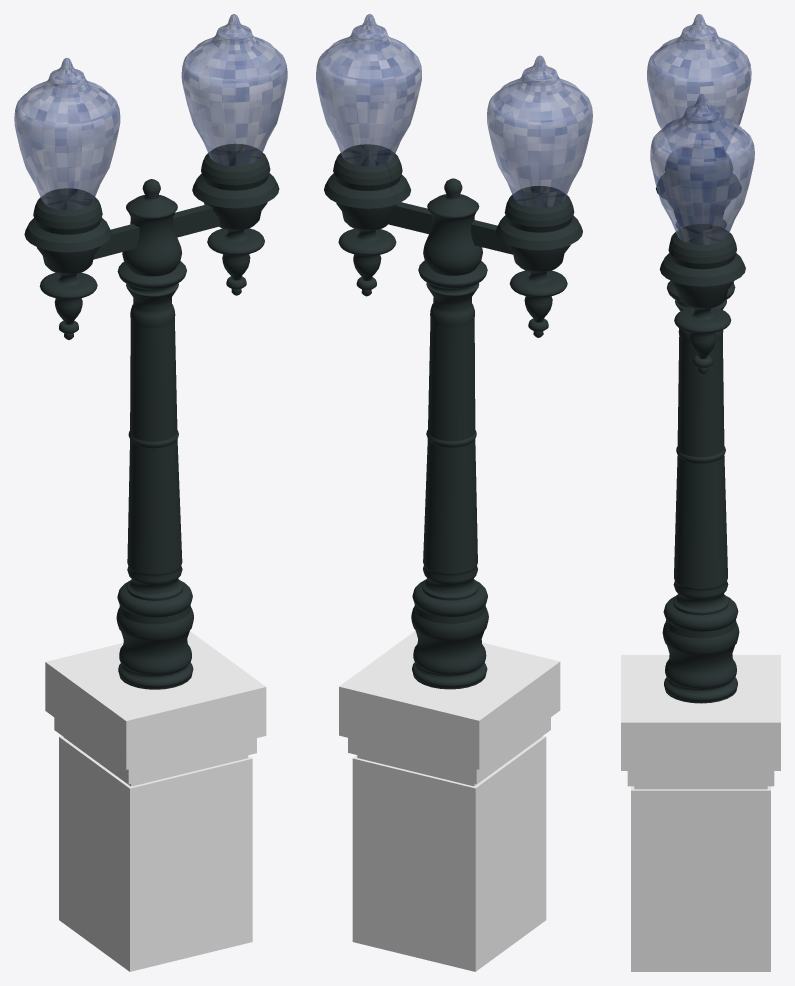
3 renders of one model, left to right at view 1: azimuth 30°, elevation 25°; view 2: azimuth 150°, elevation 25°; view 3: azimuth 270°, elevation 25°, orthographic.
Parts seen in each view (by area): view 1: Mesh38 Component_1_1 Model, Mesh11 Lamp_Post1 Cabrillo_Lamp_Post1 Component_1_1 Model, Mesh26 Lamp_Top2 Cabrillo_Lamp_Post1 Component_1_1 Model, Mesh1 Lamp_Top1 Cabrillo_Lamp_Post1 Component_1_1 Model, Mesh12 Lamp_Post1 Cabrillo_Lamp_Post1 Component_1_1 Model, Mesh36 Cabrillo_Lamp_Post1 Component_1_1 Model; view 2: Mesh38 Component_1_1 Model, Mesh11 Lamp_Post1 Cabrillo_Lamp_Post1 Component_1_1 Model, Mesh26 Lamp_Top2 Cabrillo_Lamp_Post1 Component_1_1 Model, Mesh1 Lamp_Top1 Cabrillo_Lamp_Post1 Component_1_1 Model, Mesh12 Lamp_Post1 Cabrillo_Lamp_Post1 Component_1_1 Model, Mesh36 Cabrillo_Lamp_Post1 Component_1_1 Model; view 3: Mesh38 Component_1_1 Model, Mesh11 Lamp_Post1 Cabrillo_Lamp_Post1 Component_1_1 Model, Mesh1 Lamp_Top1 Cabrillo_Lamp_Post1 Component_1_1 Model, Mesh26 Lamp_Top2 Cabrillo_Lamp_Post1 Component_1_1 Model, Mesh12 Lamp_Post1 Cabrillo_Lamp_Post1 Component_1_1 Model.
Boxes of the visible parts, box(x1,y1,x2,y2) form: Mesh38 Component_1_1 Model: box(45, 631, 266, 971); Mesh11 Lamp_Post1 Cabrillo_Lamp_Post1 Component_1_1 Model: box(116, 261, 193, 689); Mesh26 Lamp_Top2 Cabrillo_Lamp_Post1 Component_1_1 Model: box(14, 58, 120, 339); Mesh1 Lamp_Top1 Cabrillo_Lamp_Post1 Component_1_1 Model: box(181, 14, 287, 295); Mesh12 Lamp_Post1 Cabrillo_Lamp_Post1 Component_1_1 Model: box(122, 179, 181, 276); Mesh36 Cabrillo_Lamp_Post1 Component_1_1 Model: box(93, 204, 220, 259); Mesh38 Component_1_1 Model: box(339, 631, 560, 971); Mesh11 Lamp_Post1 Cabrillo_Lamp_Post1 Component_1_1 Model: box(411, 260, 488, 689); Mesh26 Lamp_Top2 Cabrillo_Lamp_Post1 Component_1_1 Model: box(487, 55, 592, 337); Mesh1 Lamp_Top1 Cabrillo_Lamp_Post1 Component_1_1 Model: box(316, 14, 421, 296); Mesh12 Lamp_Post1 Cabrillo_Lamp_Post1 Component_1_1 Model: box(423, 178, 482, 275); Mesh36 Cabrillo_Lamp_Post1 Component_1_1 Model: box(388, 202, 512, 254); Mesh38 Component_1_1 Model: box(621, 655, 780, 971); Mesh11 Lamp_Post1 Cabrillo_Lamp_Post1 Component_1_1 Model: box(662, 280, 739, 703); Mesh1 Lamp_Top1 Cabrillo_Lamp_Post1 Component_1_1 Model: box(650, 93, 754, 374); Mesh26 Lamp_Top2 Cabrillo_Lamp_Post1 Component_1_1 Model: box(647, 14, 751, 239); Mesh12 Lamp_Post1 Cabrillo_Lamp_Post1 Component_1_1 Model: box(676, 197, 726, 229).
Size of the model in its own units: 1.13 by 3.73 by 0.6096.
Materials: 3 (1 with a texture image).
